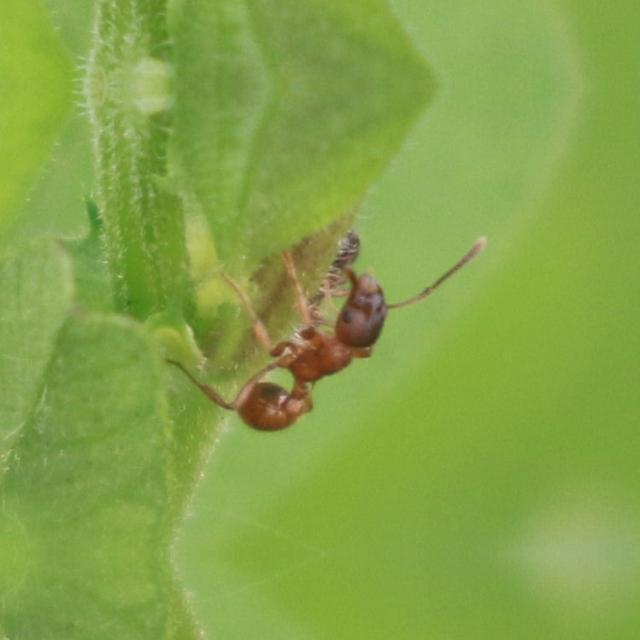Myrmica: (226, 246, 406, 452)
